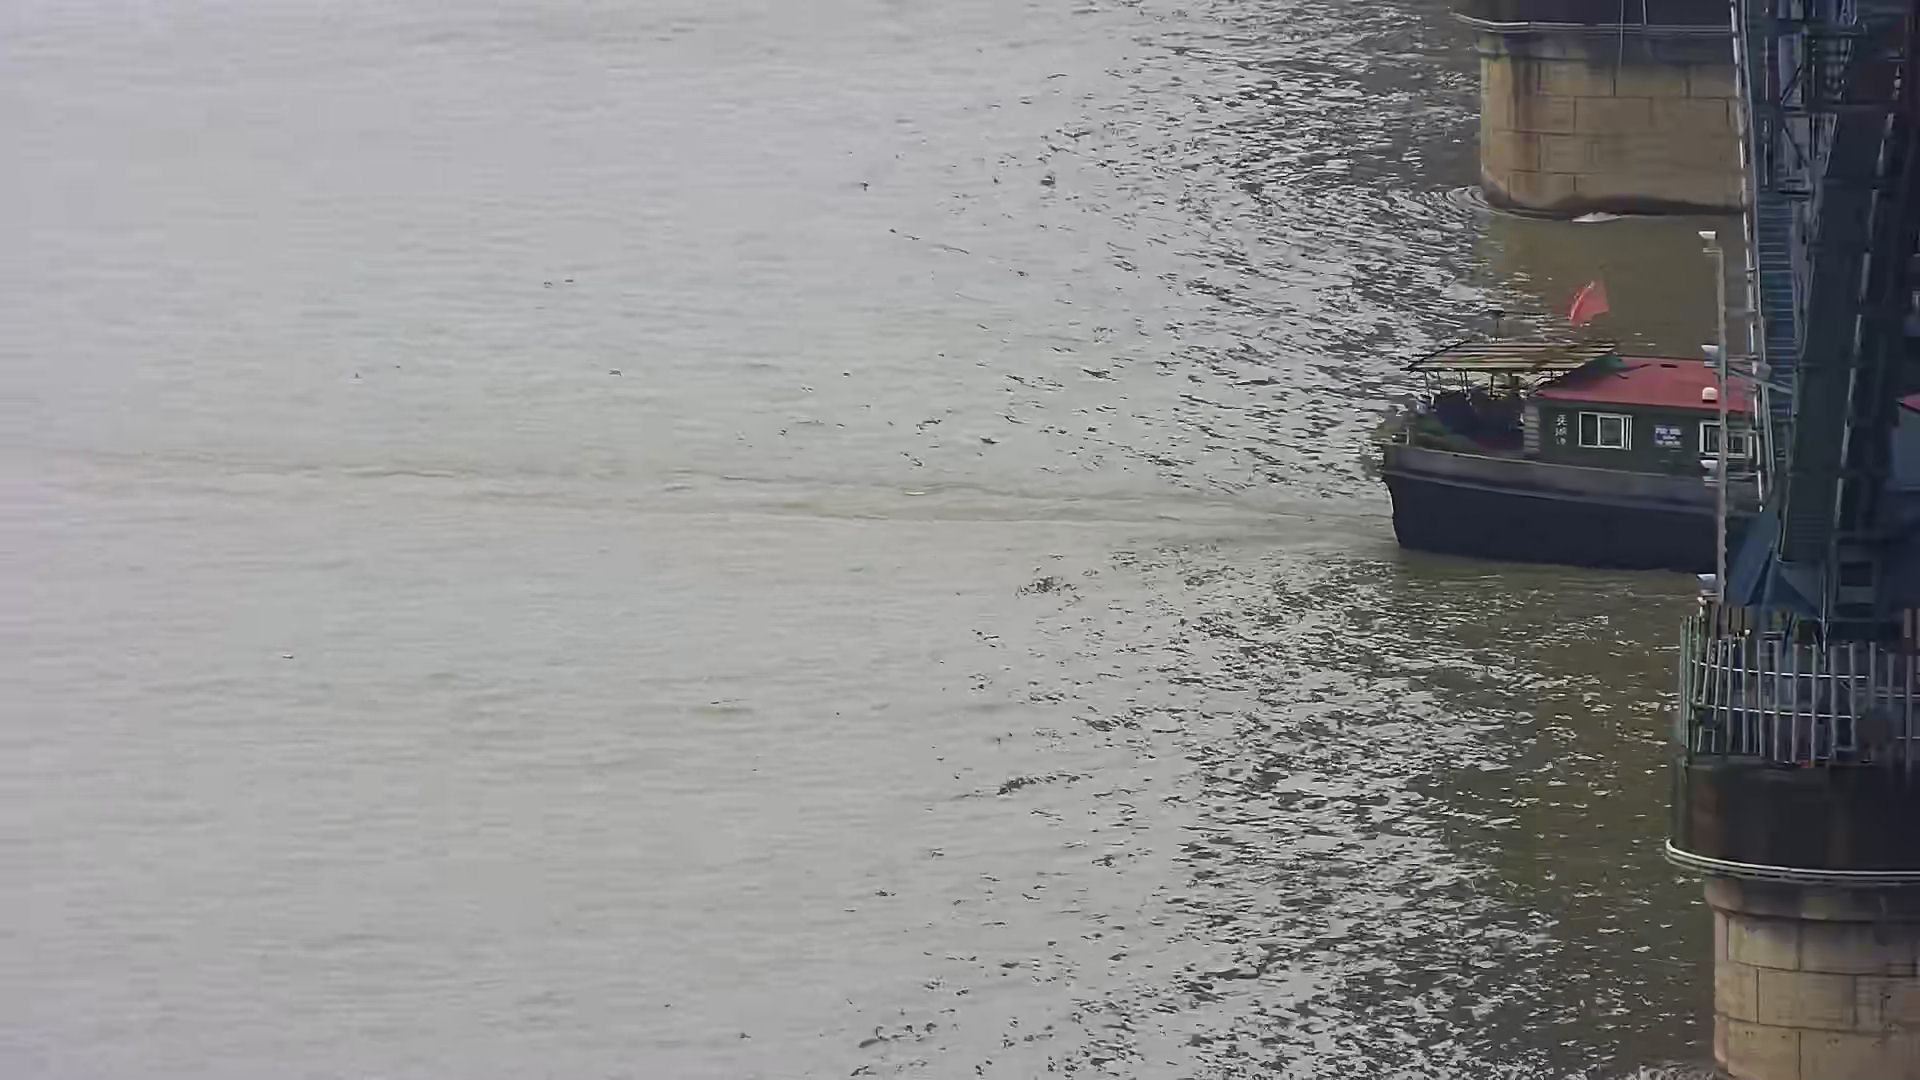bridge: (1447, 1, 1920, 1080)
ship: (1367, 315, 1770, 572)
